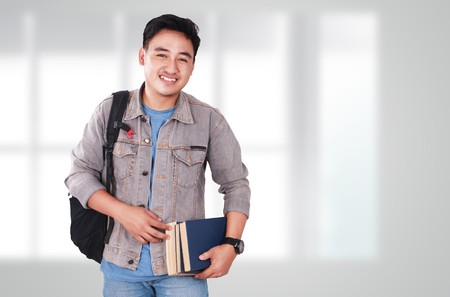bare: (144, 64, 192, 96)
